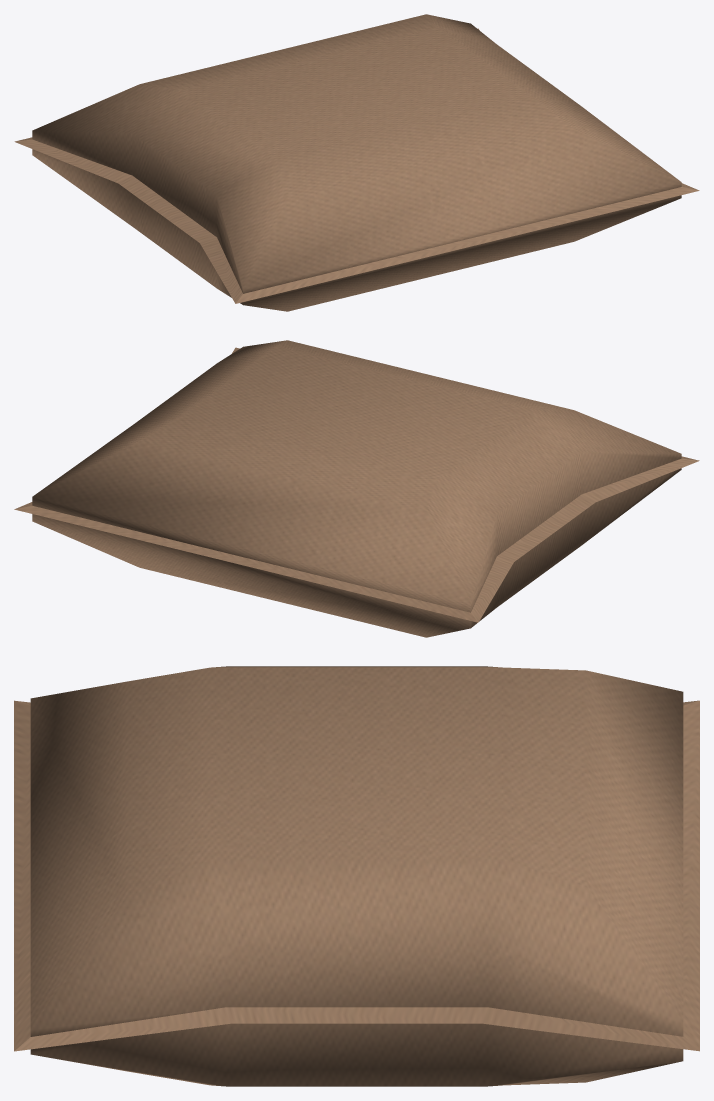
Rendered from T_Pillow_R2.FBX.
The picture shows the model from 3 angles, top to bottom: view 1: azimuth 30°, elevation 25°; view 2: azimuth 150°, elevation 25°; view 3: azimuth 270°, elevation 25°; orthographic projection. The views are drawn at different scales.
Parts seen in each view (by area): view 1: Throw_Pillow; view 2: Throw_Pillow; view 3: Throw_Pillow.
Part boxes in pixels (x1,y1,x2,y2): Throw_Pillow: (14,14,699,311); Throw_Pillow: (14,340,699,637); Throw_Pillow: (14,666,699,1086).
Size of the model in its own units: 127 by 37.95 by 105.
